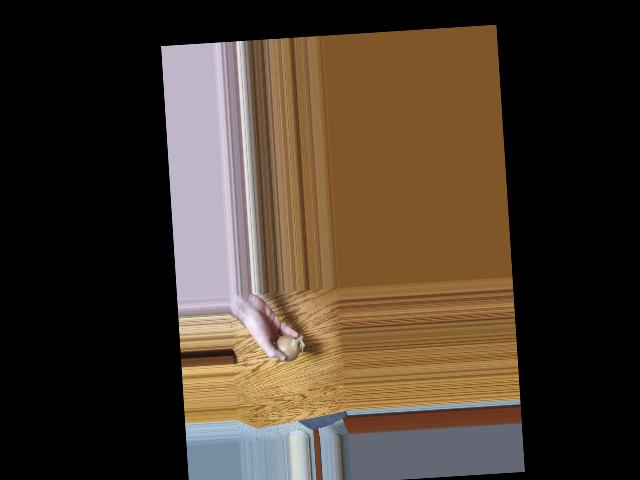onion: (273, 335, 300, 362)
